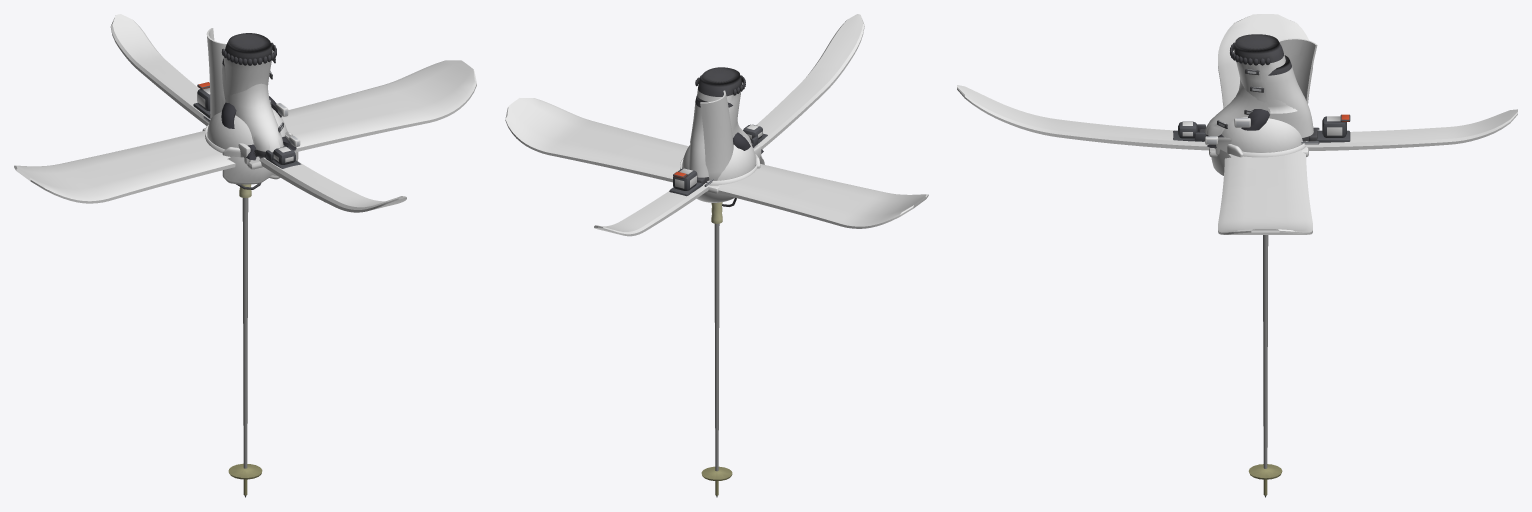
The model's file is gear.glb.
The picture shows the model from 3 angles, left to right: view 1: azimuth 30°, elevation 25°; view 2: azimuth 150°, elevation 25°; view 3: azimuth 270°, elevation 25°; orthographic projection. The views are drawn at different scales.
Parts seen in each view (by area): view 1: board, ski, skiBoot, boardBind, boardBoot, pole, helmet, skiBind, lens; view 2: board, ski, boardBind, pole, skiBoot, helmet, boardBoot, skiBind; view 3: board, ski, skiBoot, boardBoot, boardBind, helmet, pole, skiBind.
Part boxes in pixels (bbox=[...]): board: bbox=[14, 60, 476, 203]; ski: bbox=[110, 14, 406, 212]; skiBoot: bbox=[210, 33, 283, 158]; boardBind: bbox=[202, 28, 300, 169]; boardBoot: bbox=[222, 58, 280, 158]; pole: bbox=[228, 184, 262, 497]; helmet: bbox=[207, 108, 287, 189]; skiBind: bbox=[193, 82, 301, 168]; lens: bbox=[225, 147, 298, 182]; board: bbox=[505, 98, 928, 228]; ski: bbox=[594, 14, 864, 236]; boardBind: bbox=[700, 90, 763, 193]; pole: bbox=[701, 202, 732, 497]; skiBoot: bbox=[690, 67, 753, 184]; helmet: bbox=[682, 136, 755, 206]; boardBoot: bbox=[688, 95, 748, 182]; skiBind: bbox=[669, 124, 767, 196]; board: bbox=[1218, 14, 1312, 234]; ski: bbox=[957, 85, 1517, 150]; skiBoot: bbox=[1199, 34, 1317, 141]; boardBoot: bbox=[1204, 55, 1313, 141]; boardBind: bbox=[1205, 38, 1317, 157]; helmet: bbox=[1221, 117, 1302, 152]; pole: bbox=[1248, 235, 1282, 497]; skiBind: bbox=[1173, 114, 1350, 144].
Bounding box in the file's own units: 1.56 × 1.54 × 1.72.
